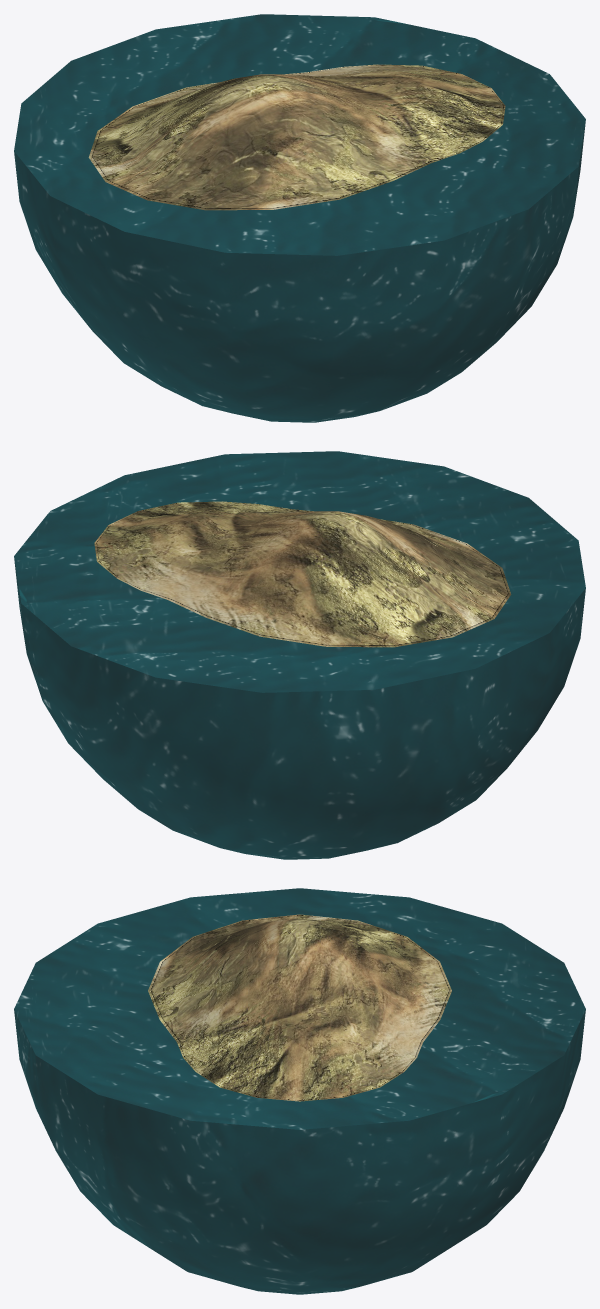
File: Ball_Island.fbx
The picture shows the model from 3 angles, top to bottom: view 1: azimuth 30°, elevation 25°; view 2: azimuth 150°, elevation 25°; view 3: azimuth 270°, elevation 25°; orthographic projection.
Parts seen in each view (by area): view 1: pSphere2, polySurface8; view 2: pSphere2, polySurface8; view 3: pSphere2, polySurface8.
Part boxes in pixels (left/top/right/bottom): pSphere2: left=14, top=14, right=585, bottom=422; polySurface8: left=88, top=64, right=505, bottom=210; pSphere2: left=14, top=451, right=585, bottom=859; polySurface8: left=94, top=501, right=511, bottom=647; pSphere2: left=14, top=888, right=585, bottom=1294; polySurface8: left=148, top=914, right=451, bottom=1101.
Bounding box in the file's own units: 16.07 × 9.98 × 16.07.
2 materials, 2 textured.
